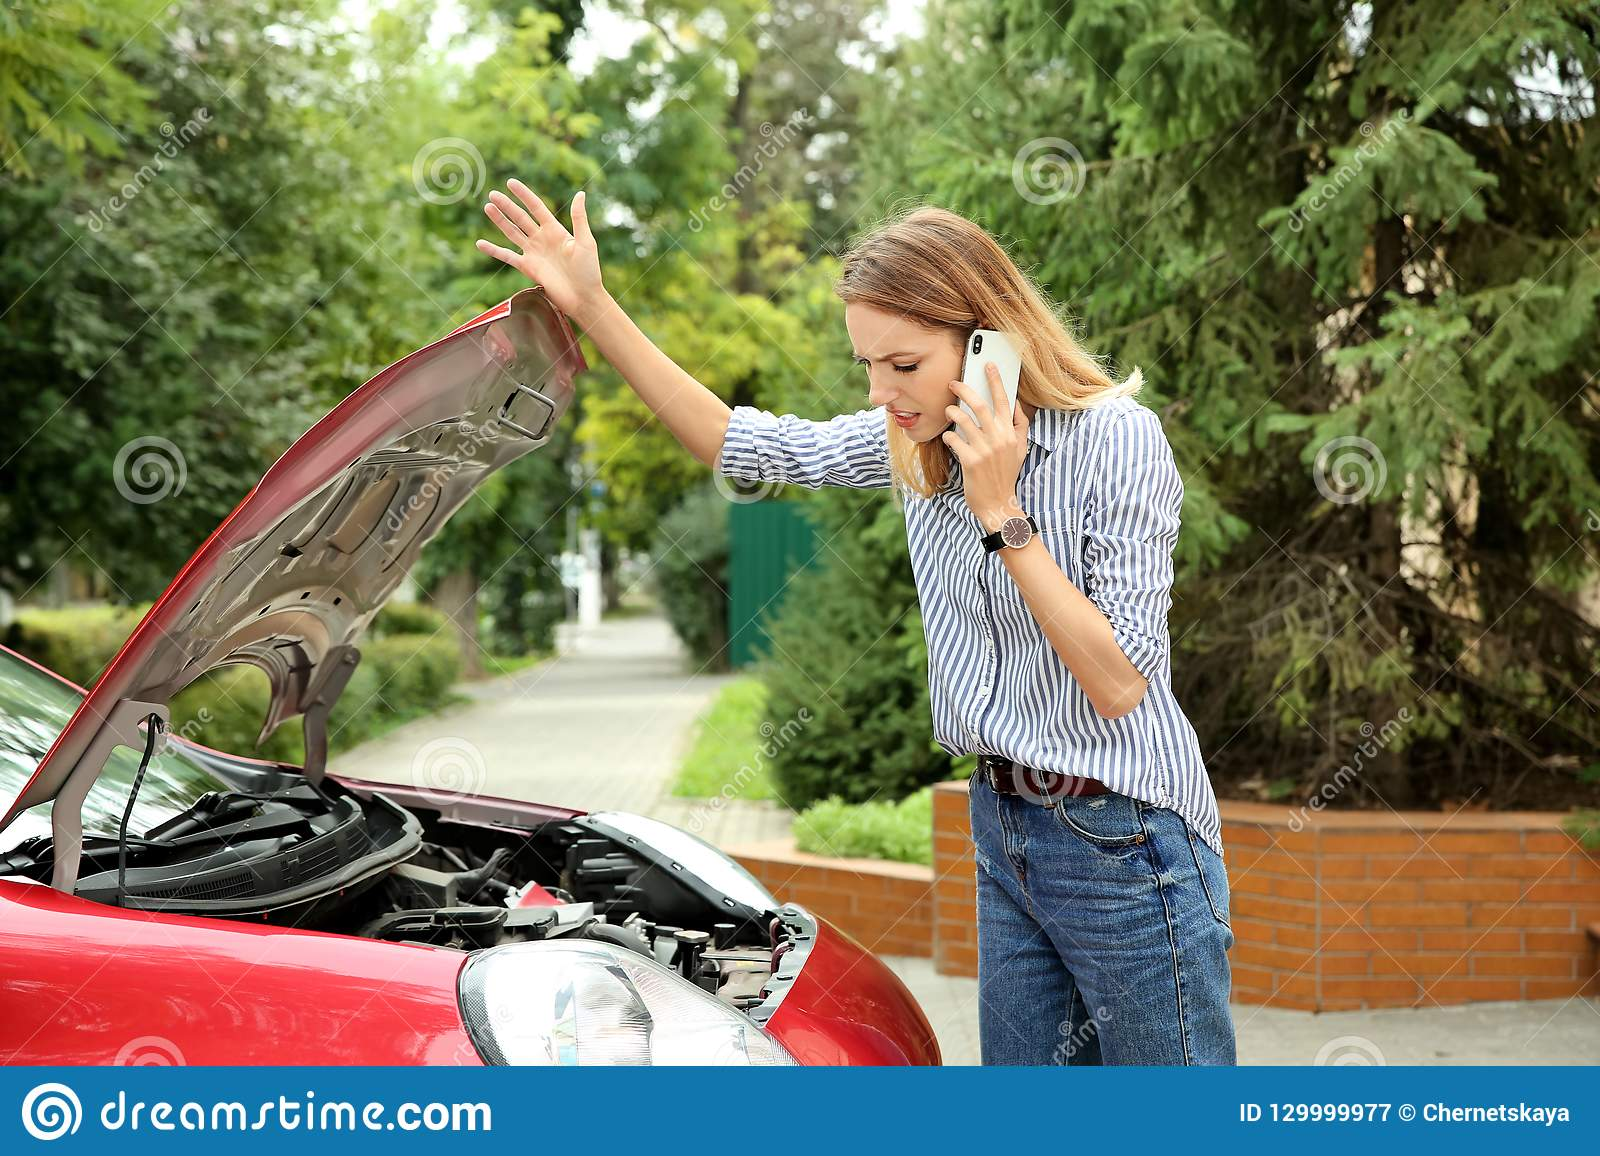phone: (958, 327, 1026, 468)
talk: (846, 319, 1039, 519)
